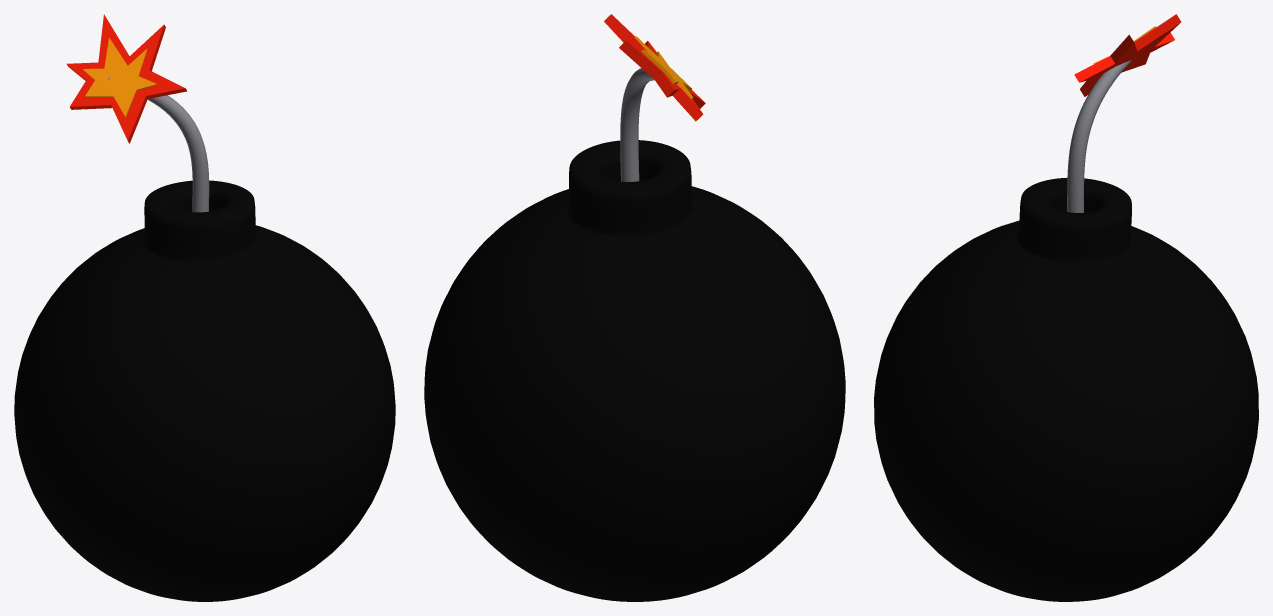
Rendered from bomb.glb.
The picture shows the model from 3 angles, left to right: view 1: azimuth 30°, elevation 25°; view 2: azimuth 150°, elevation 25°; view 3: azimuth 270°, elevation 25°; orthographic projection. The views are drawn at different scales.
Parts seen in each view (by area): view 1: Plane.004; view 2: Plane.004; view 3: Plane.004.
Part boxes in pixels (x1=…): Plane.004: x1=14, y1=14, x2=395, y2=601; Plane.004: x1=424, y1=14, x2=845, y2=601; Plane.004: x1=874, y1=14, x2=1258, y2=601.
Size of the model in its own units: 157 by 246 by 156.
Materials: 1 (1 with a texture image).
